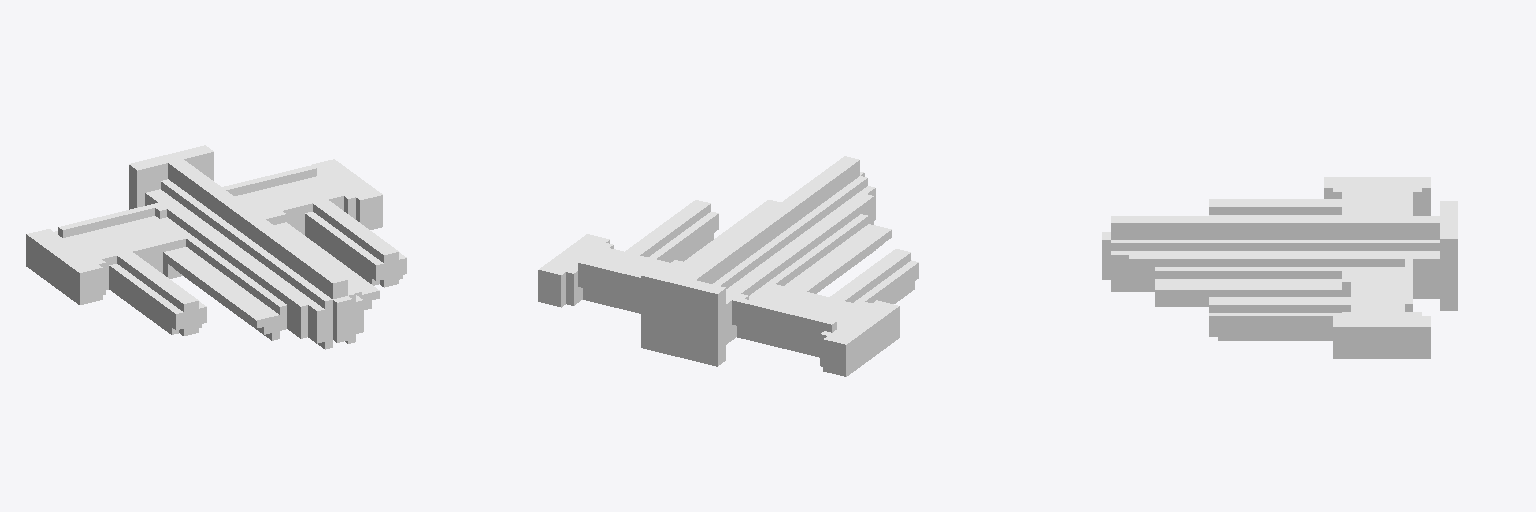
The model's file is SpaceShip.obj.
The picture shows the model from 3 angles: view 1: azimuth 30°, elevation 25°; view 2: azimuth 150°, elevation 25°; view 3: azimuth 270°, elevation 25°; orthographic projection.
Parts seen in each view (by area): view 1: object 1; view 2: object 1; view 3: object 1.
Boxes of the visible parts, x1=… form: object 1: x1=26, y1=145, x2=406, y2=349; object 1: x1=538, y1=156, x2=918, y2=376; object 1: x1=1102, y1=177, x2=1457, y2=358.
Bounding box in the file's own units: 4 × 0.9 × 4.